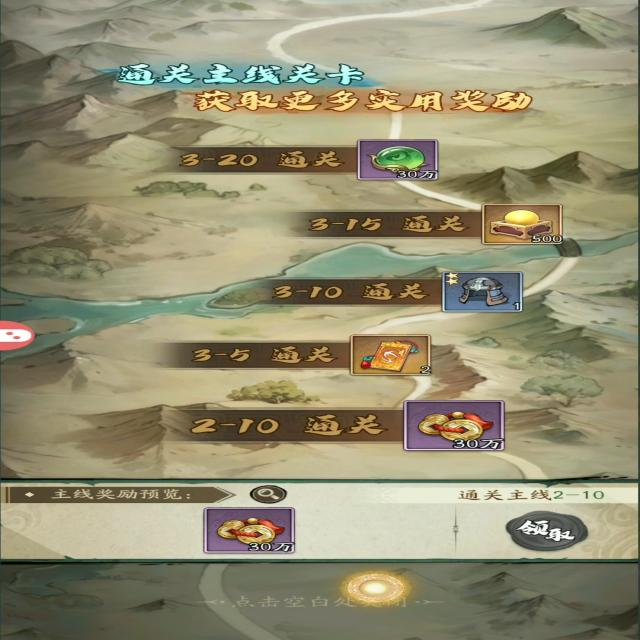operation-confirm-off: (482, 498, 604, 558)
operation-preview: (239, 479, 308, 509)
